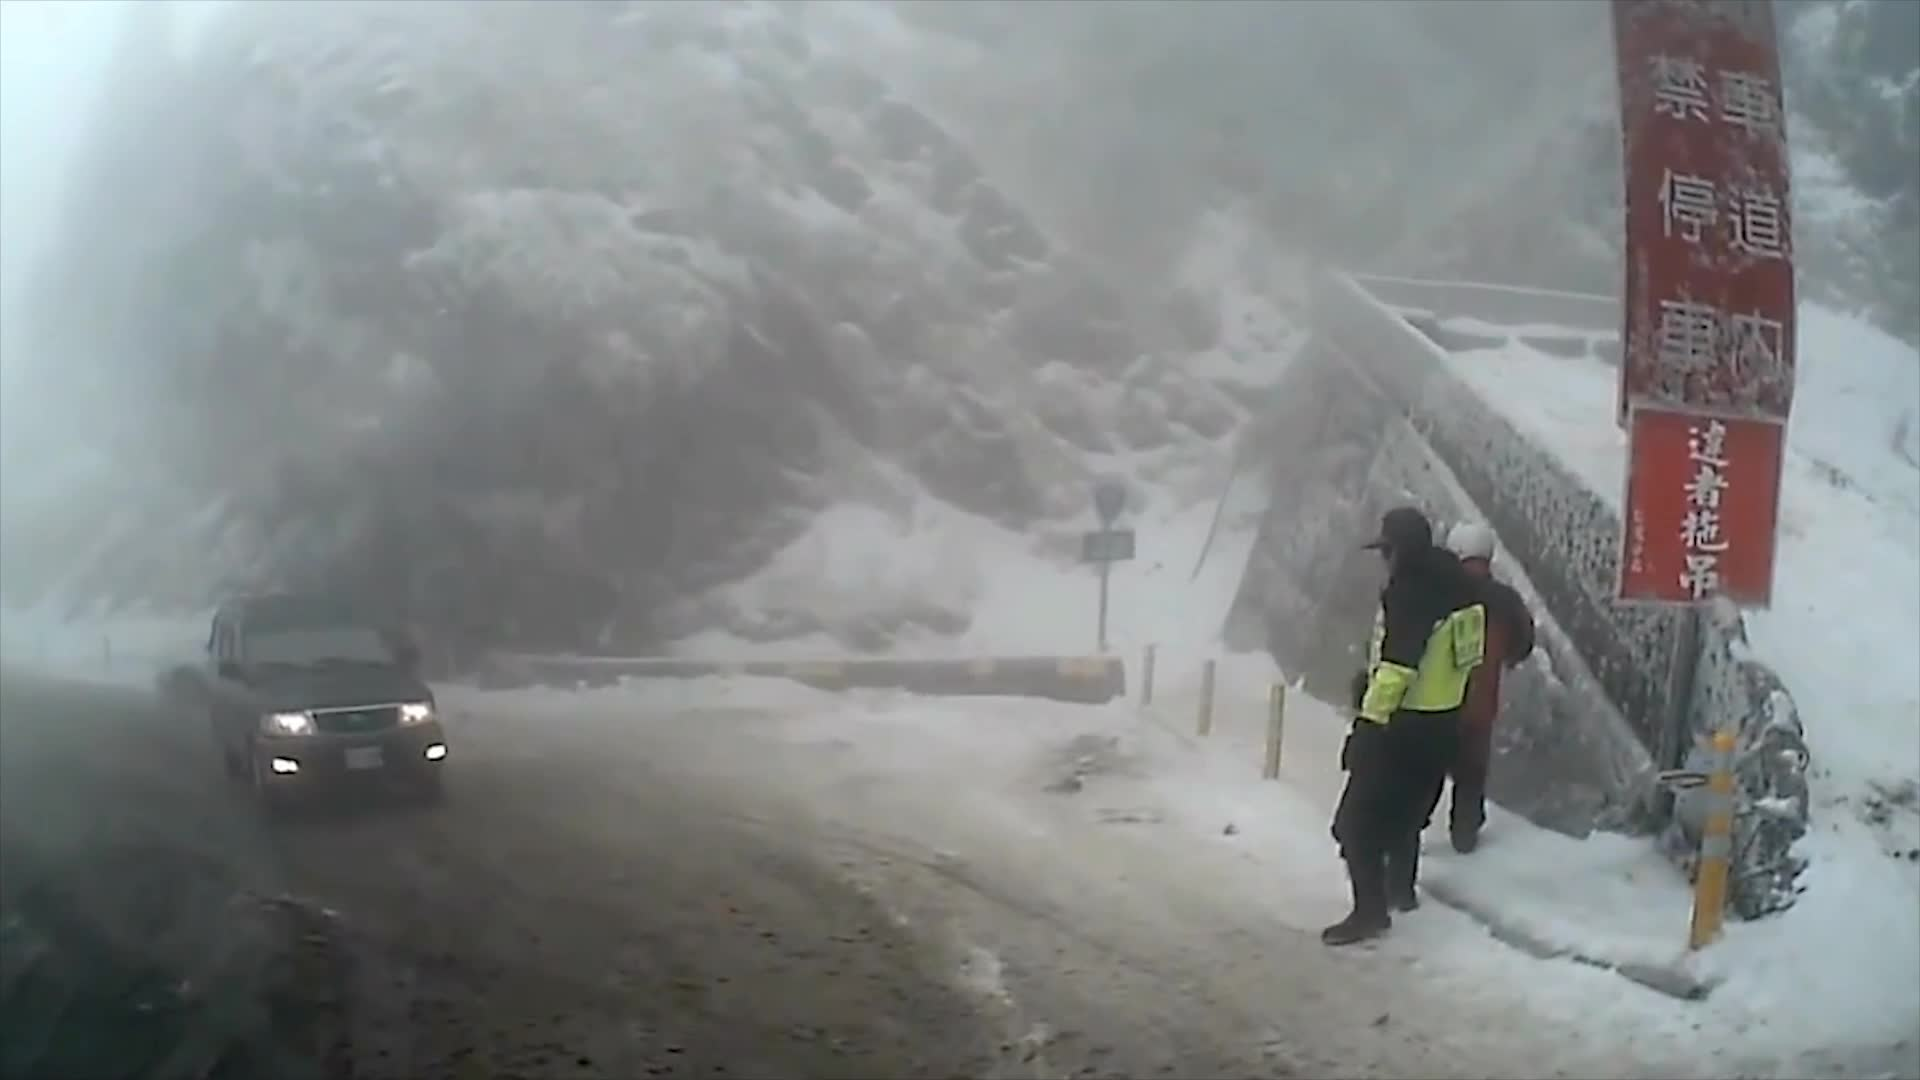pedestrian: (1324, 516, 1490, 953)
vehicle: (201, 589, 445, 817)
